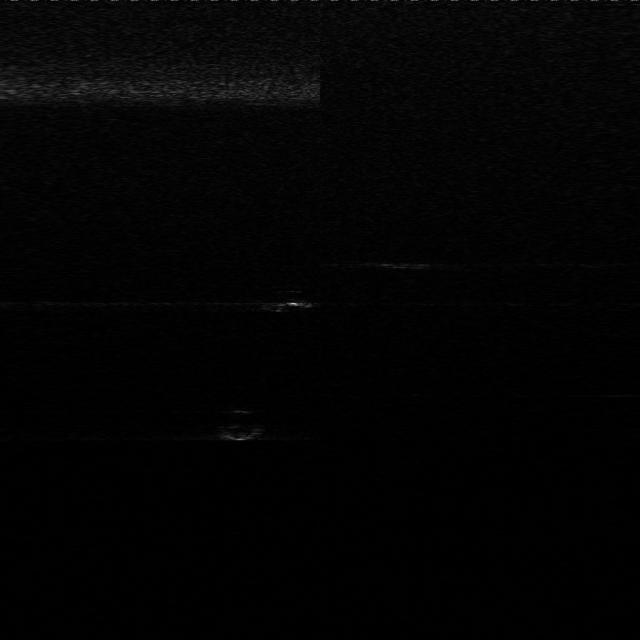ball: (206, 404, 276, 447)
tyre: (260, 282, 324, 316)
